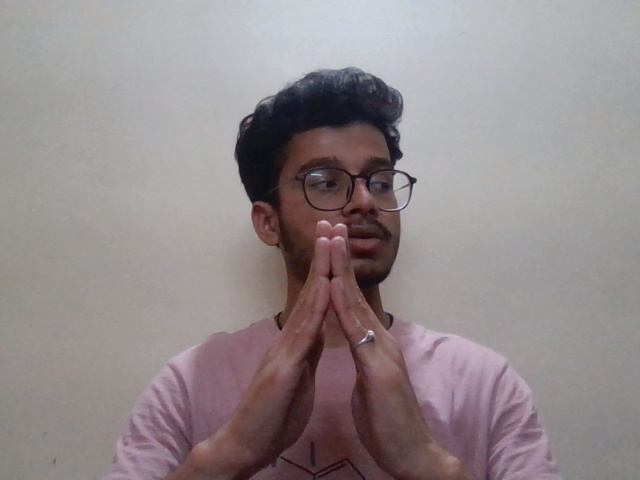home: (222, 218, 444, 464)
